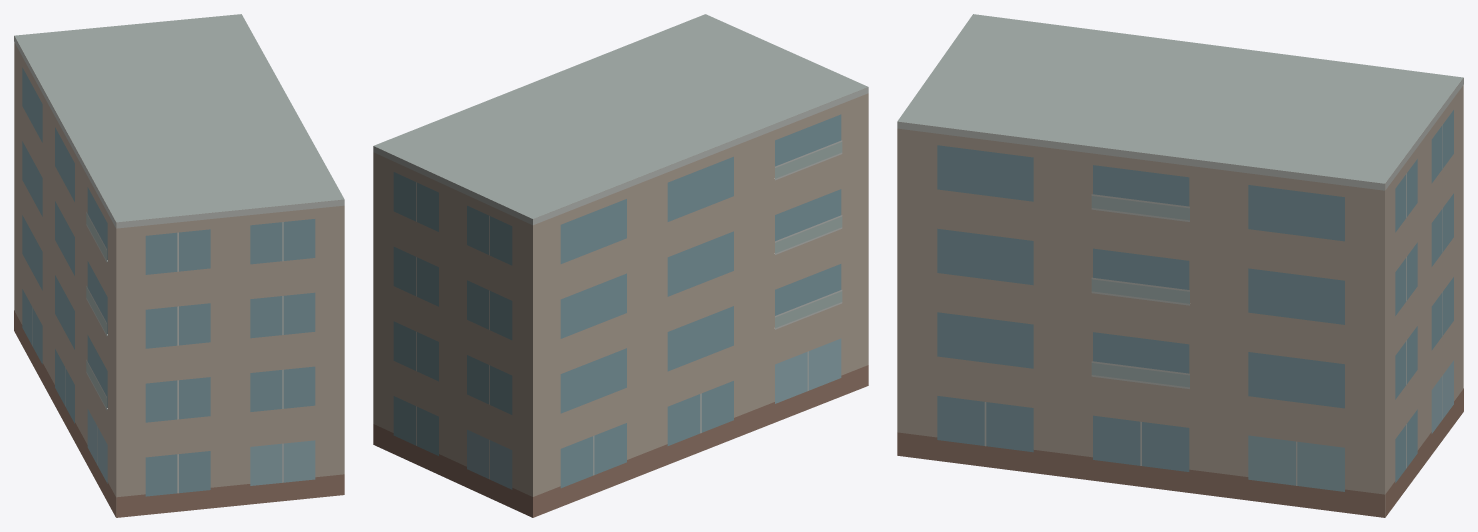
File: survey-upis-32873159.glb
3 renders of one model, left to right at view 1: azimuth 30°, elevation 25°; view 2: azimuth 150°, elevation 25°; view 3: azimuth 270°, elevation 25°, orthographic. The views are drawn at different scales.
Visible parts, largest first — view 1: survey-upis-32873159.tmp; view 2: survey-upis-32873159.tmp; view 3: survey-upis-32873159.tmp.
Boxes of the visible parts, <box> form: survey-upis-32873159.tmp: <box>14,14,344,517</box>; survey-upis-32873159.tmp: <box>373,14,868,517</box>; survey-upis-32873159.tmp: <box>897,14,1463,517</box>.
Bounding box in the file's own units: 12.76 × 11.7 × 17.99.
